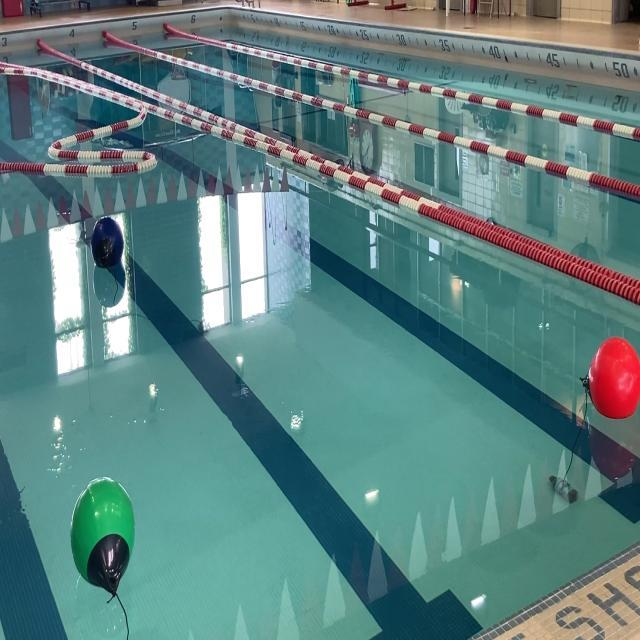buoy: (70, 472, 134, 594), (584, 333, 638, 421), (92, 215, 122, 265)
